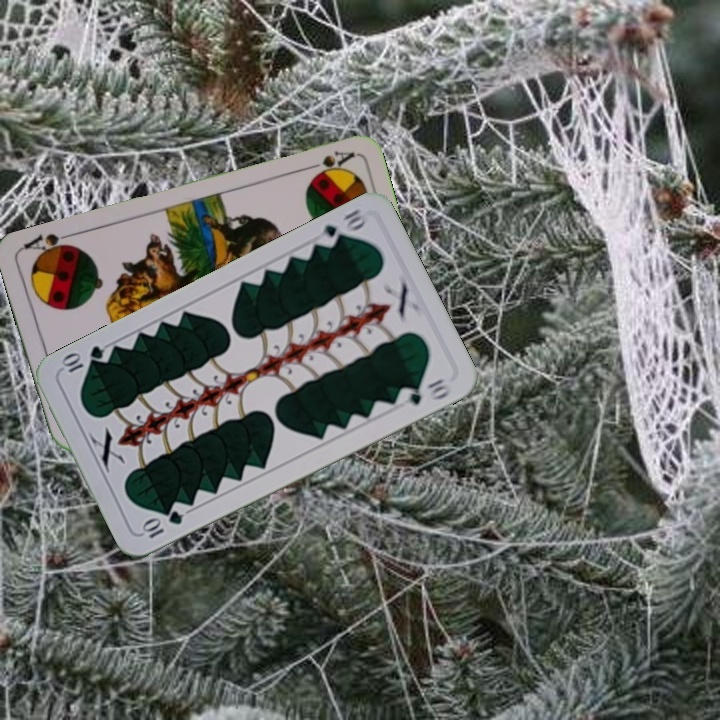G10: (313, 205, 369, 251), (138, 506, 186, 541)
SA: (298, 146, 357, 182)
